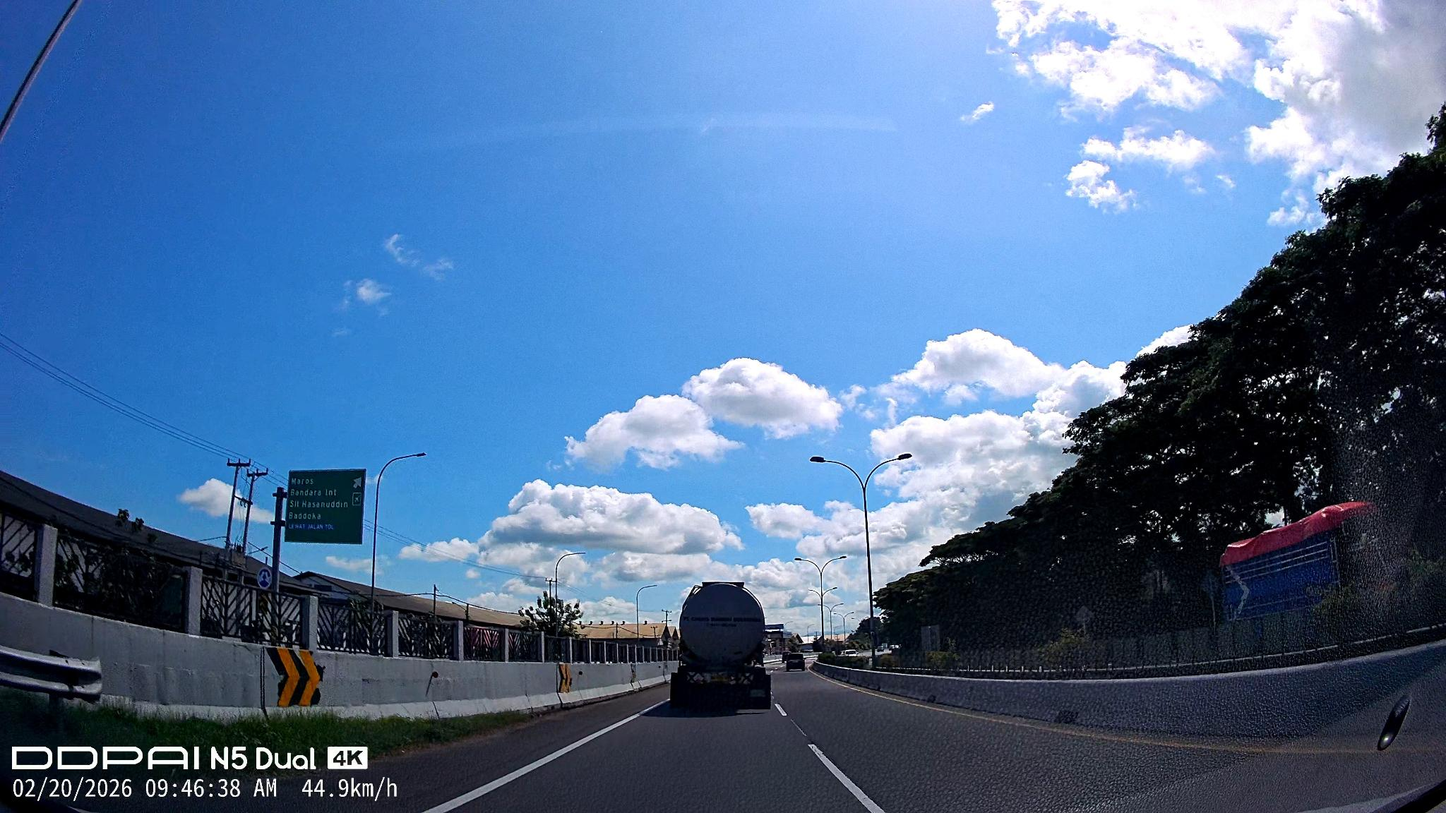rambu_teks: (284, 469, 366, 545)
